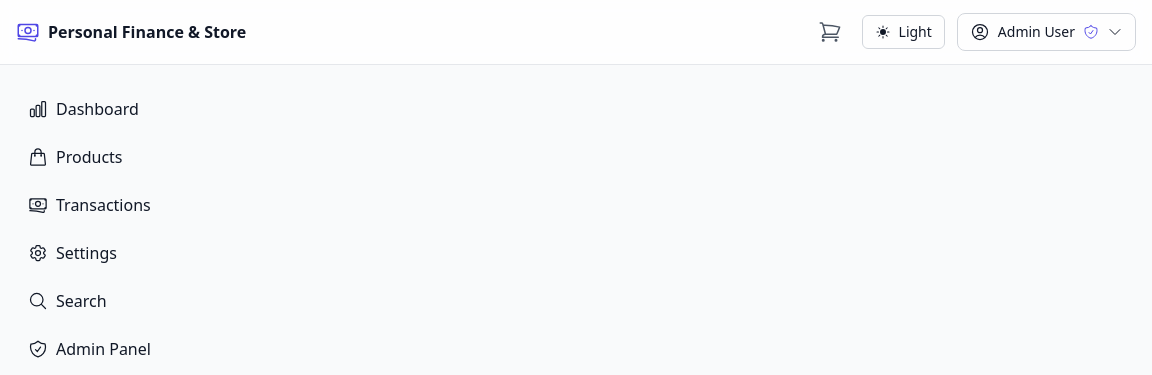
Test case: User menu navigation › navigates to Settings from user menu
Click the button "Admin User": (1046, 32) [957,13,1136,51]
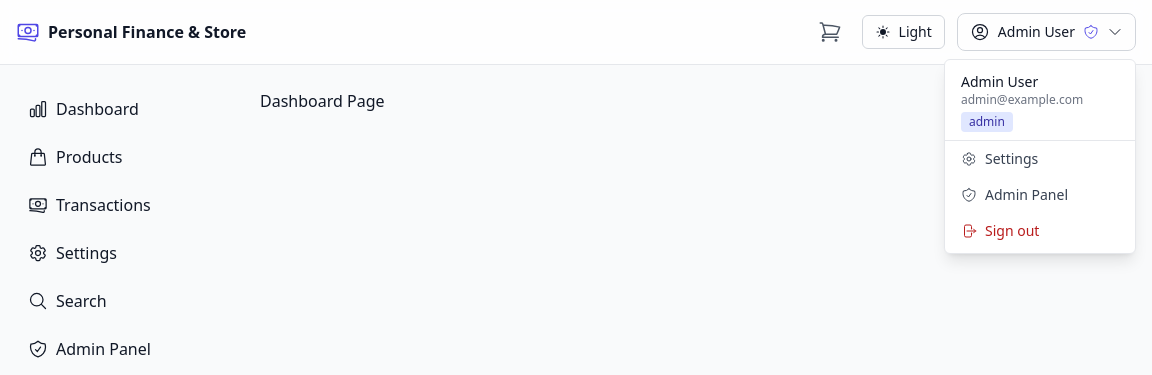
Click the link "Settings": (1000, 158) [961,149,1038,168]
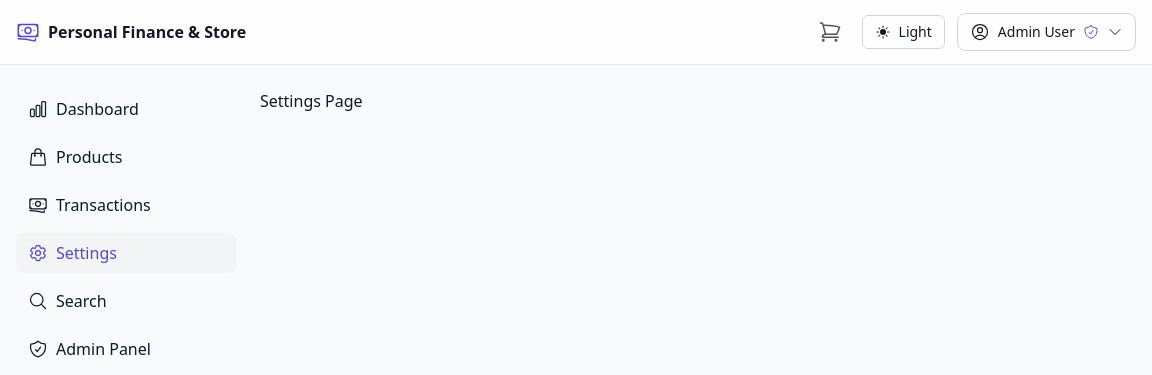
expect the text "Settings Page" is shown: met, box [260,90,363,112]
